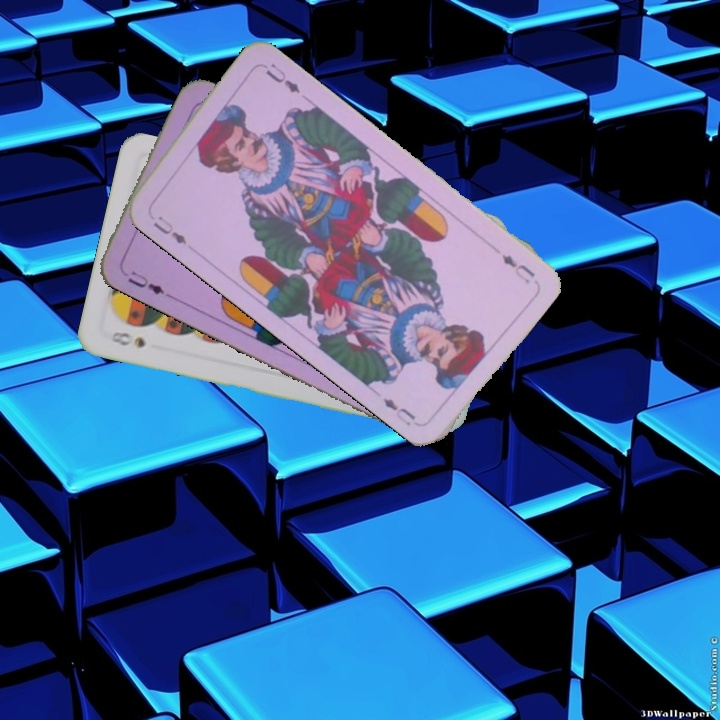EU: (116, 263, 171, 298), (497, 250, 537, 286), (149, 212, 190, 247)
S8: (106, 327, 148, 351)
